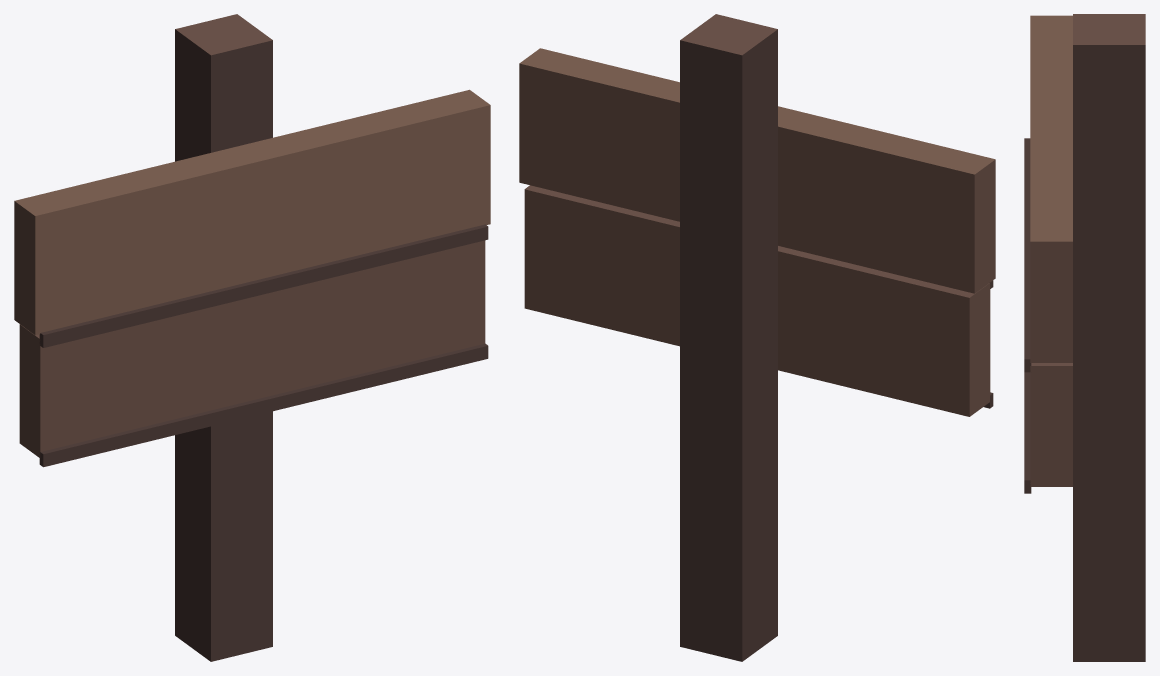
The model's file is sign_basic.fbx.
3 views of the same model, side by side, from view 1: azimuth 30°, elevation 25°; view 2: azimuth 150°, elevation 25°; view 3: azimuth 270°, elevation 25° (orthographic).
Visible parts, largest first — view 1: sign_basic; view 2: sign_basic; view 3: sign_basic.
Part boxes in pixels (x1,y1,x2,y2): sign_basic: [14, 14, 490, 661]; sign_basic: [519, 14, 995, 661]; sign_basic: [1024, 14, 1145, 661].
Bounding box in the file's own units: 0.44 × 0.56 × 0.1.
